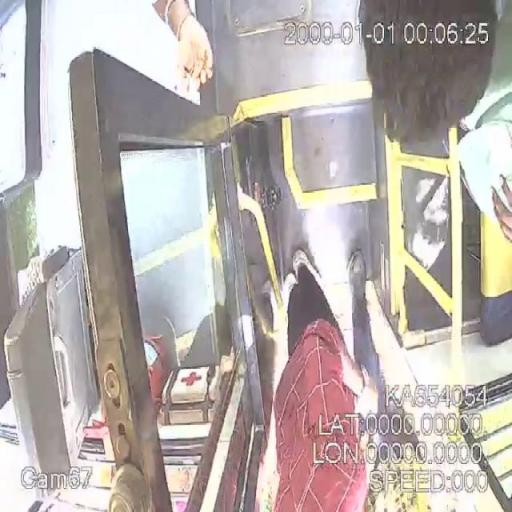persona: (261, 248, 372, 511)
